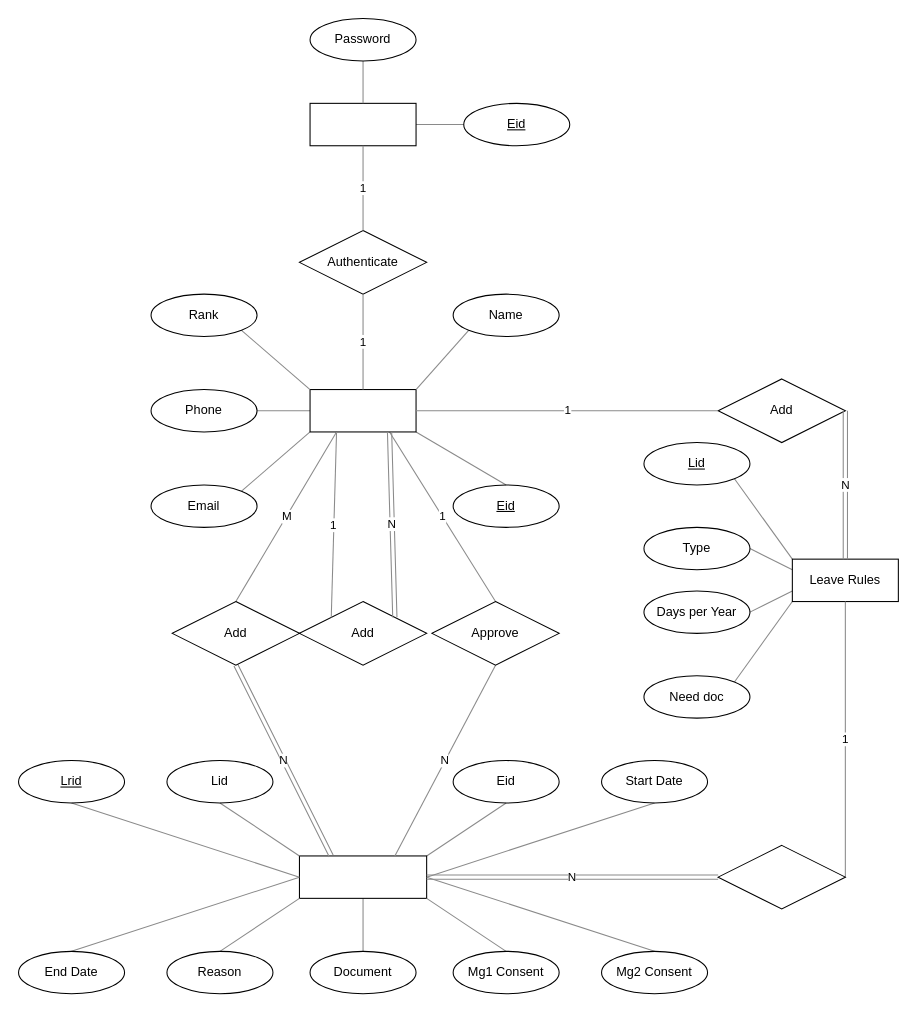
This 917x1012 diagram has some shape labels left out. The shapes that lost their labels are listed below. From the top down, each one's centre as x and y in pixels, then its label:
(x=362, y=124): Login
(x=362, y=410): Employee
(x=362, y=876): Leave Request
(x=781, y=876): Check
